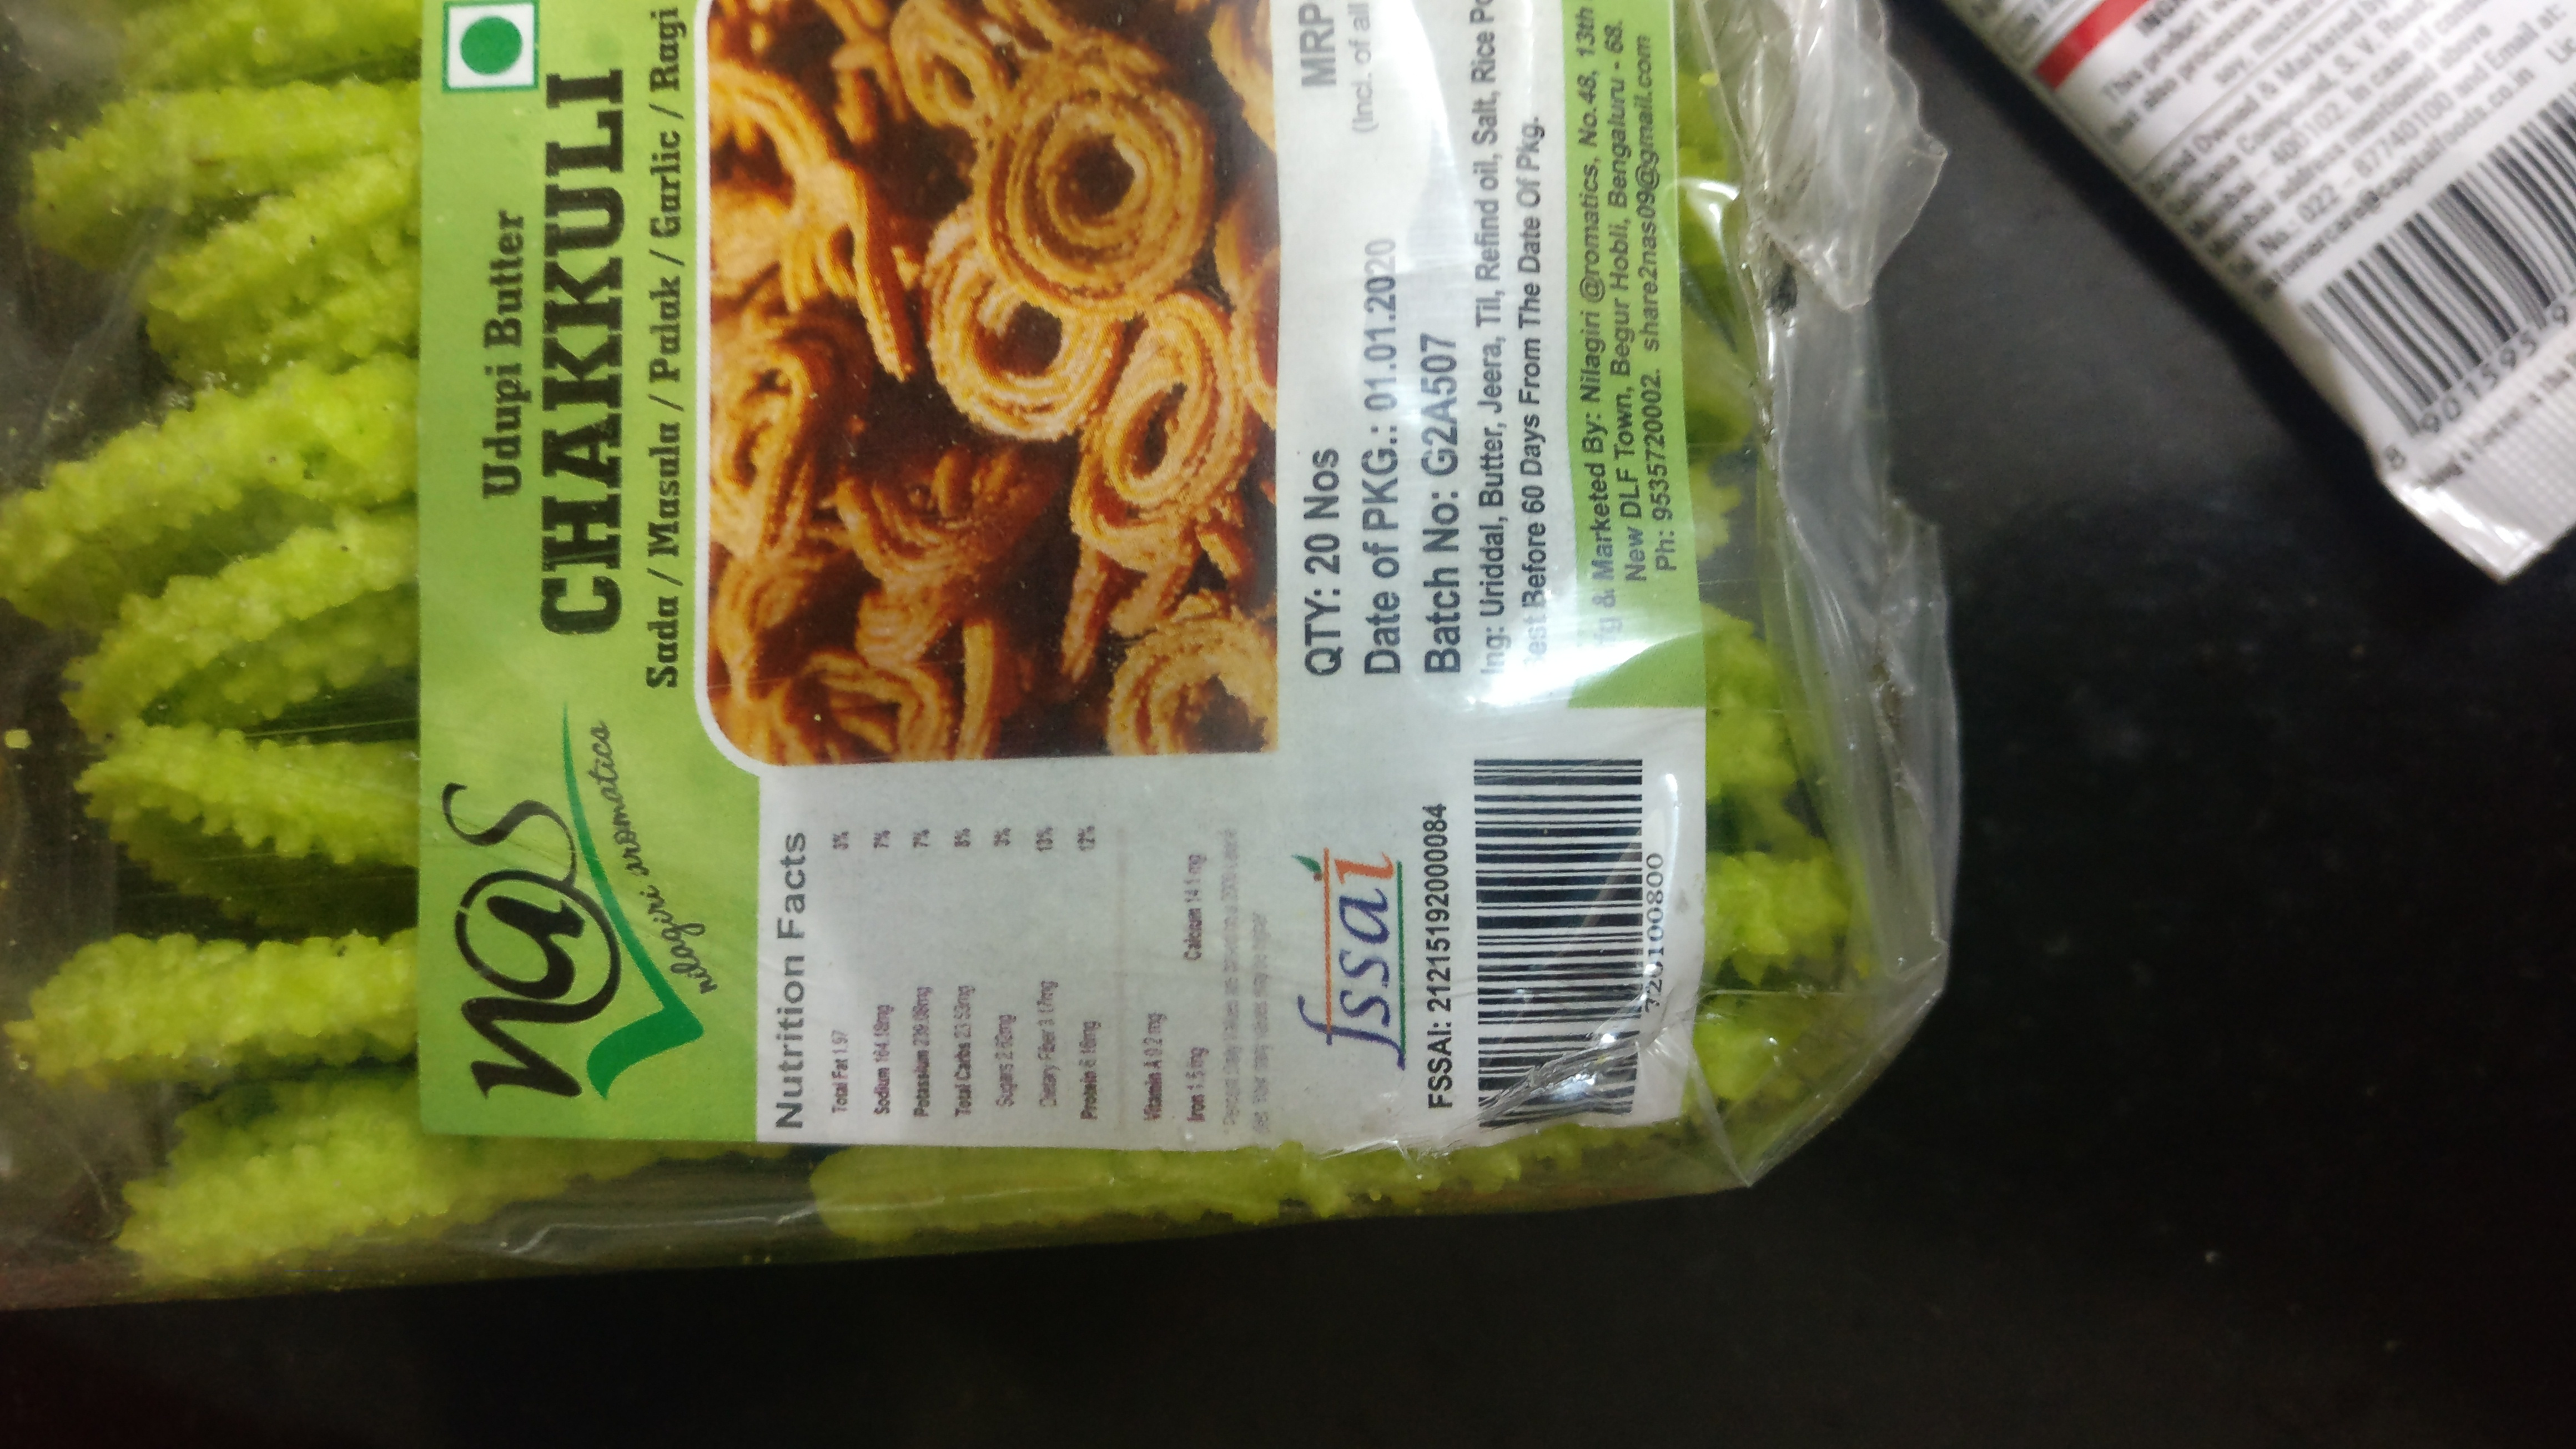barcode: (1453, 750, 1668, 1171)
